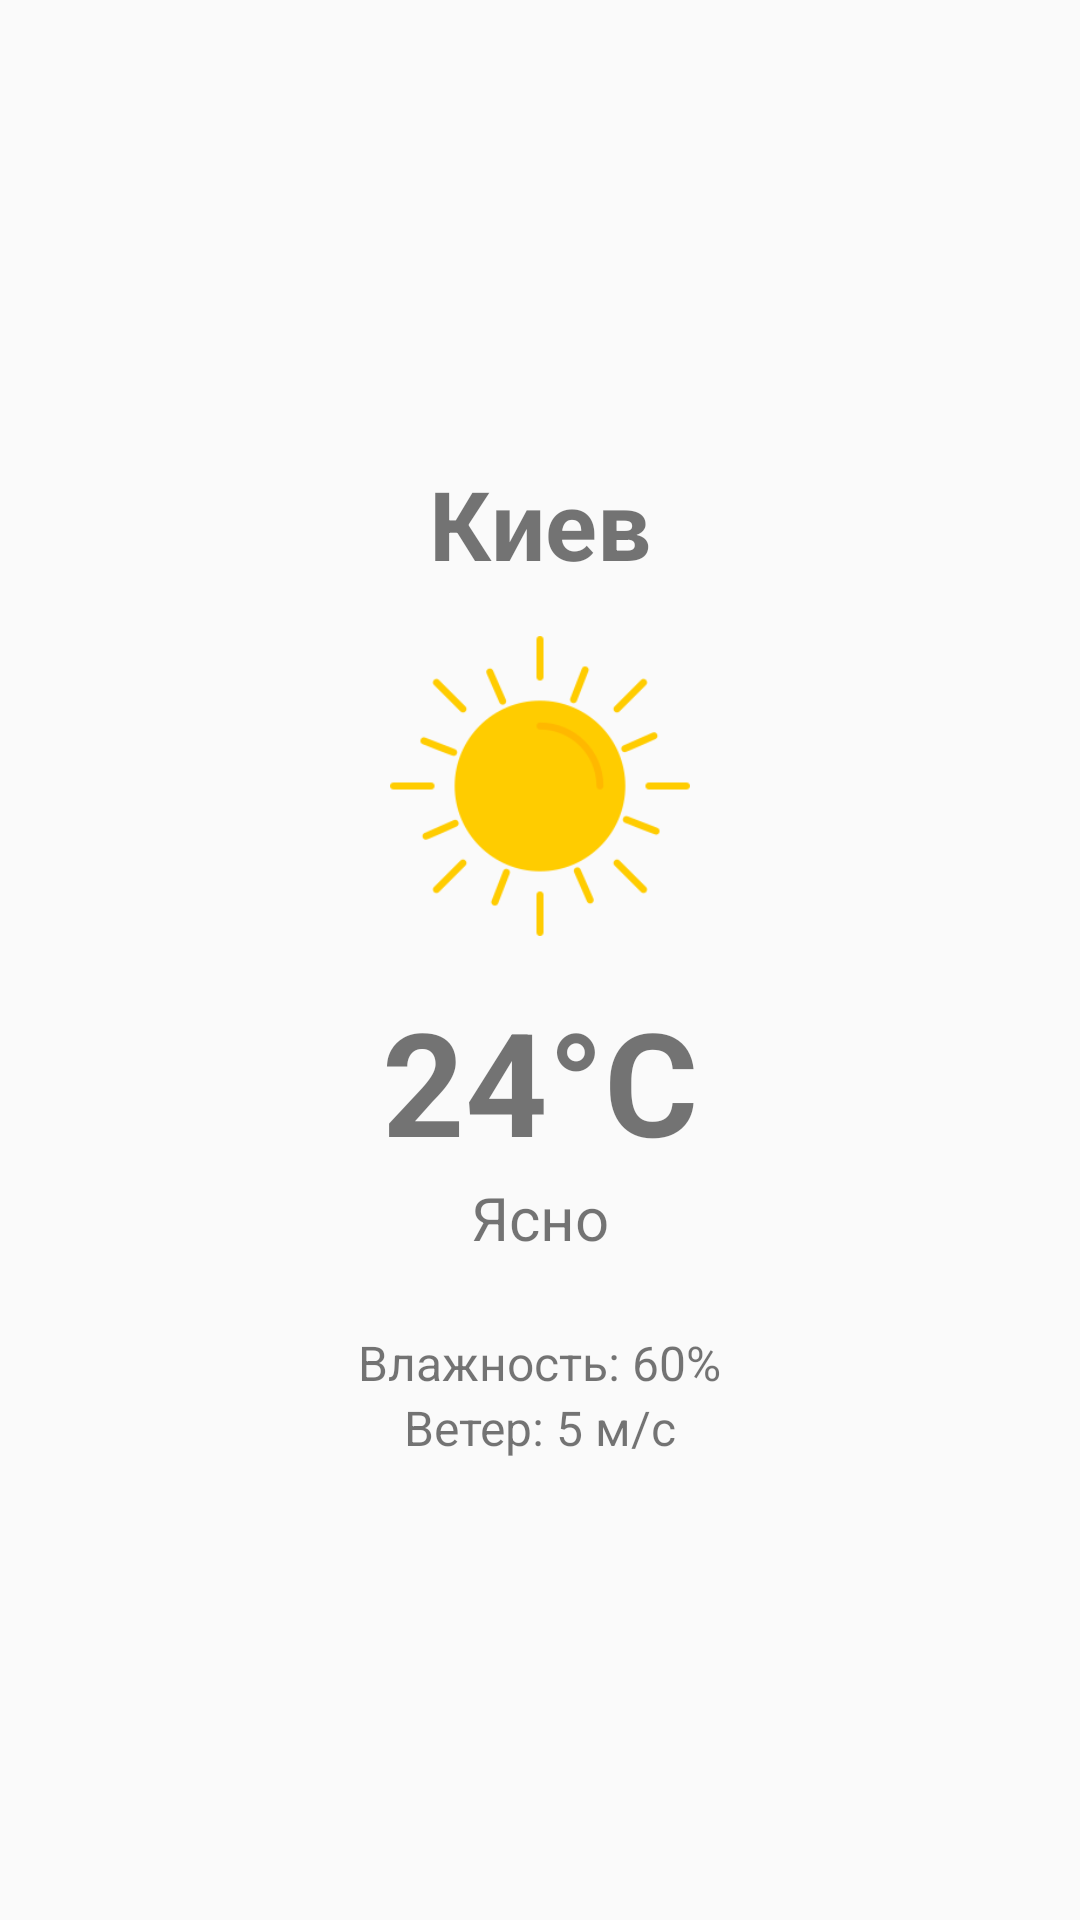

Screen size 1080*1920. Icon name, then its center in pixels as point (x, y):
Sunny: point (540, 786)
